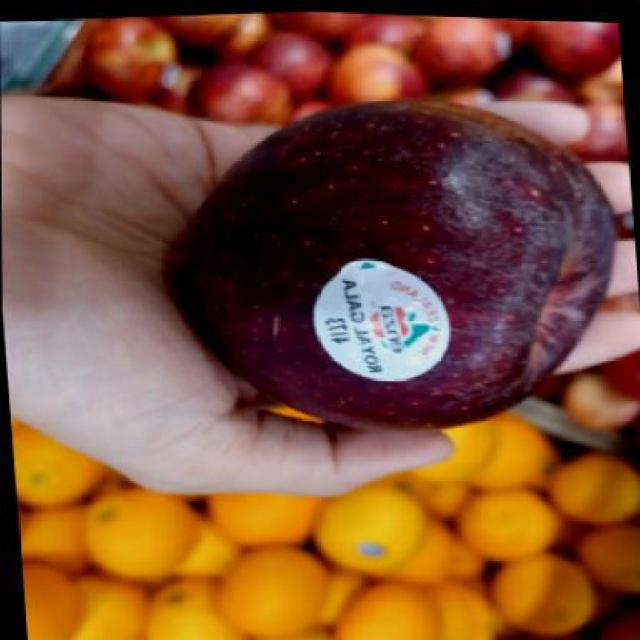Fresh Apple: (192, 117, 610, 452)
